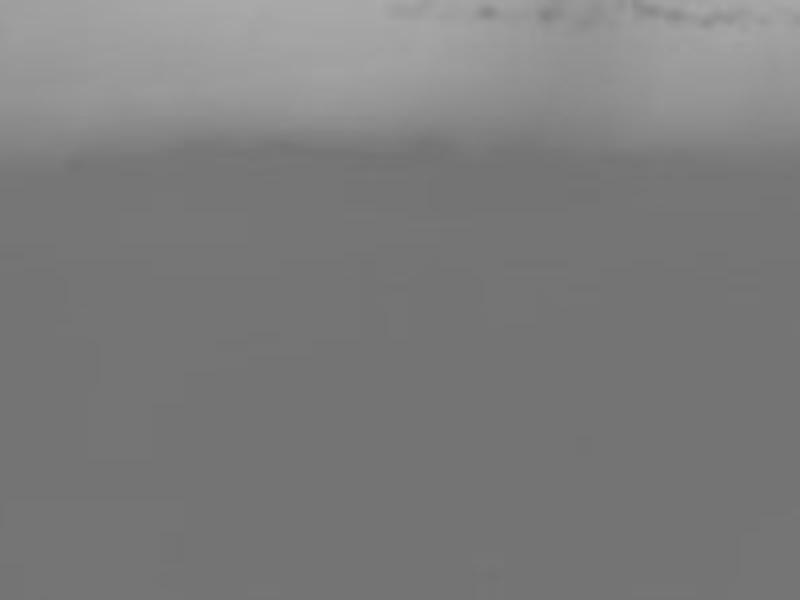defect: (687, 1, 758, 29), (625, 3, 685, 26), (385, 1, 436, 16), (535, 2, 567, 22), (478, 2, 498, 23)
